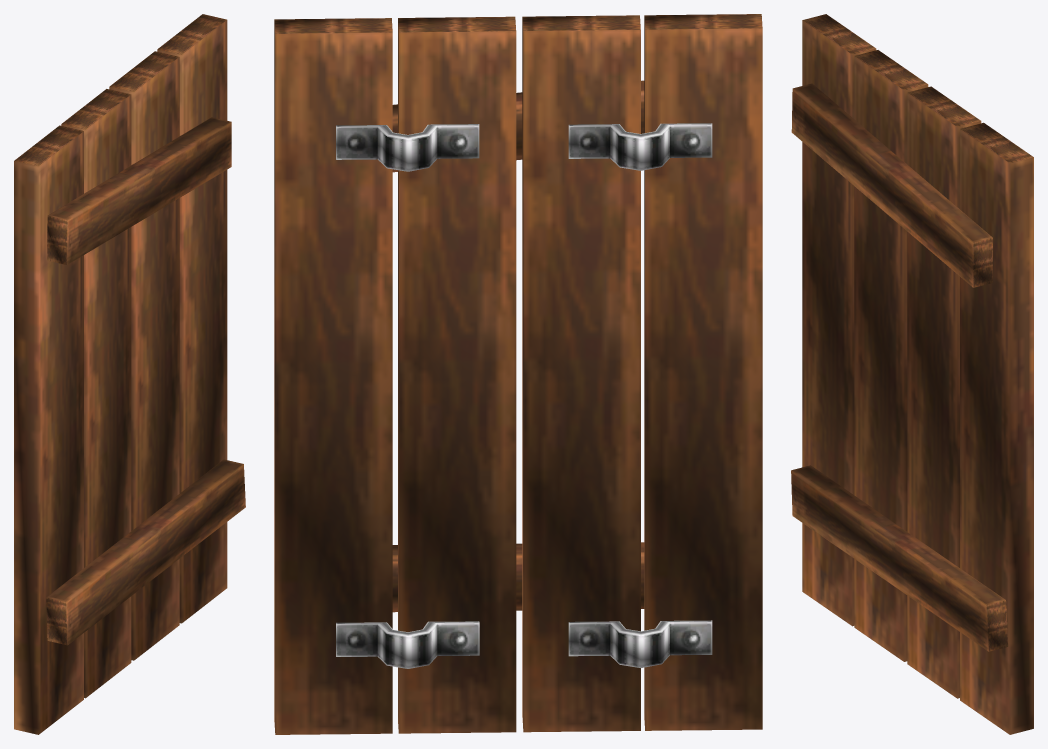
The model's file is SWORDLIGHT20_INST_TORTWALL_LOD1_01.fbx.
3 renders of one model, left to right at view 1: azimuth 30°, elevation 25°; view 2: azimuth 150°, elevation 25°; view 3: azimuth 270°, elevation 25°, orthographic. The views are drawn at different scales.
Visible parts, largest first — view 1: SWORDLIGHT20_INST_TORTWALL_LOD1_01; view 2: SWORDLIGHT20_INST_TORTWALL_LOD1_01; view 3: SWORDLIGHT20_INST_TORTWALL_LOD1_01.
Boxes of the visible parts, left/top/right/bottom form: SWORDLIGHT20_INST_TORTWALL_LOD1_01: left=14, top=14, right=245, bottom=734; SWORDLIGHT20_INST_TORTWALL_LOD1_01: left=274, top=14, right=762, bottom=734; SWORDLIGHT20_INST_TORTWALL_LOD1_01: left=791, top=14, right=1033, bottom=734.
Size of the model in its own units: 11159 by 19392 by 7469.
Materials: 2 (2 with a texture image).
